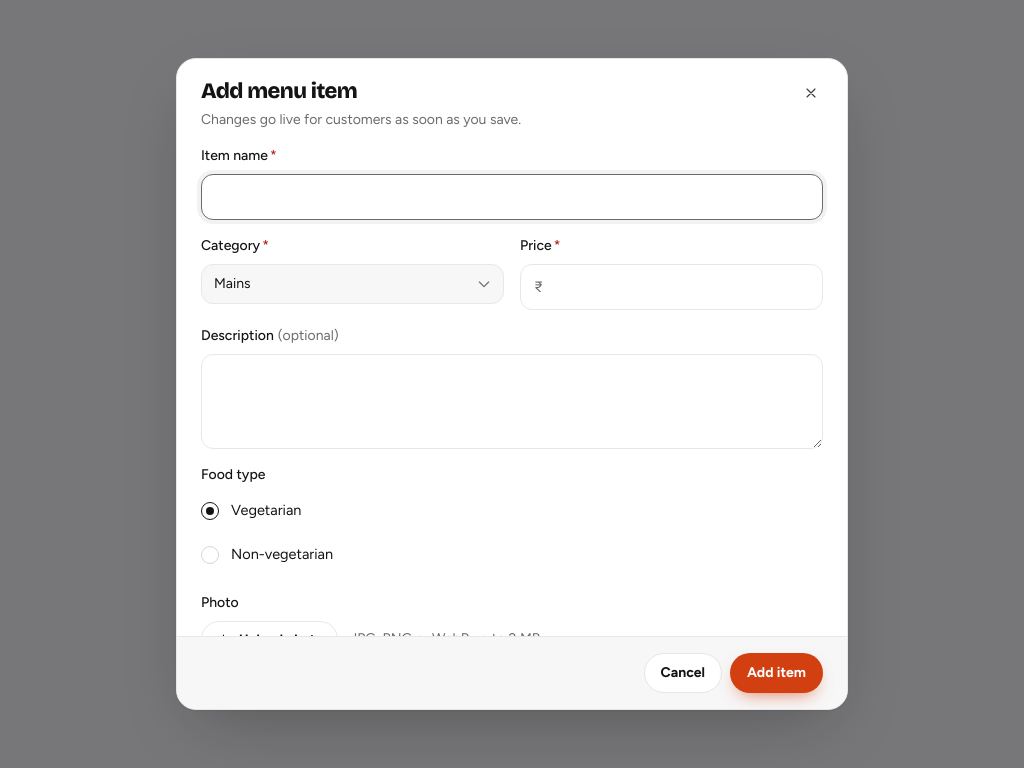
Test: ItemEditor customization validation › requires stock to be a whole number when stock tracking is on
The width and height of the screenshot is (1024, 768).
Type "Raita" into the field labelled "Item name*" at (512, 197), box [201,174,823,220]
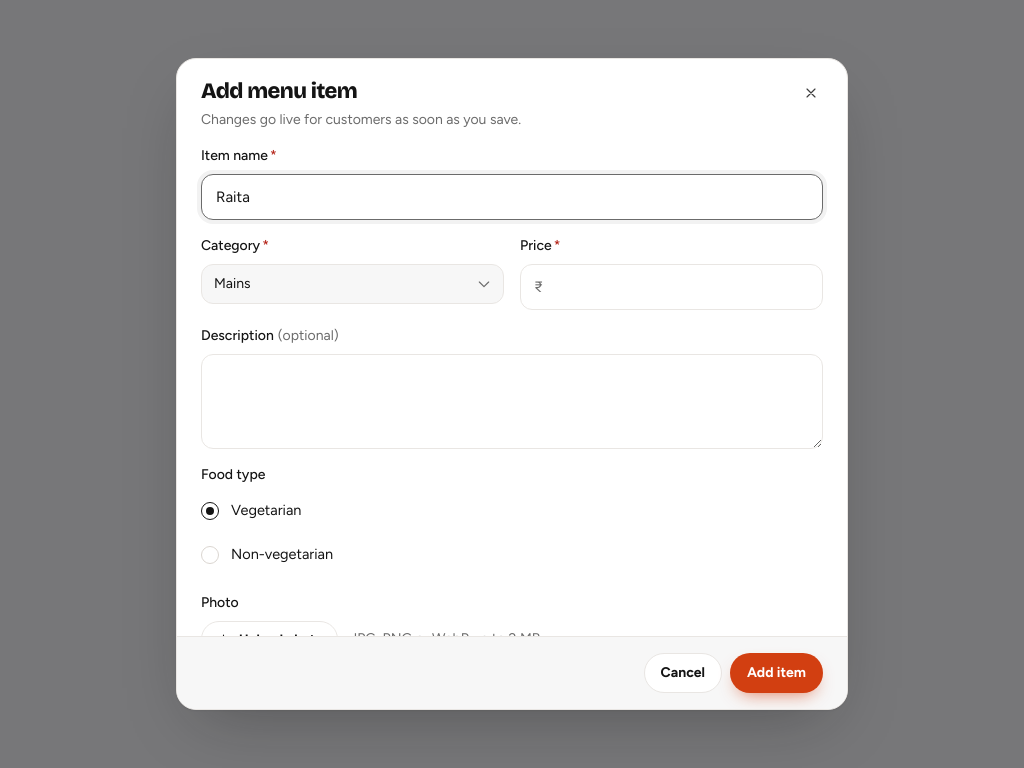
Type "60" into the field labelled "Price*" at (672, 287), box [520,264,823,310]
(page scrolled)
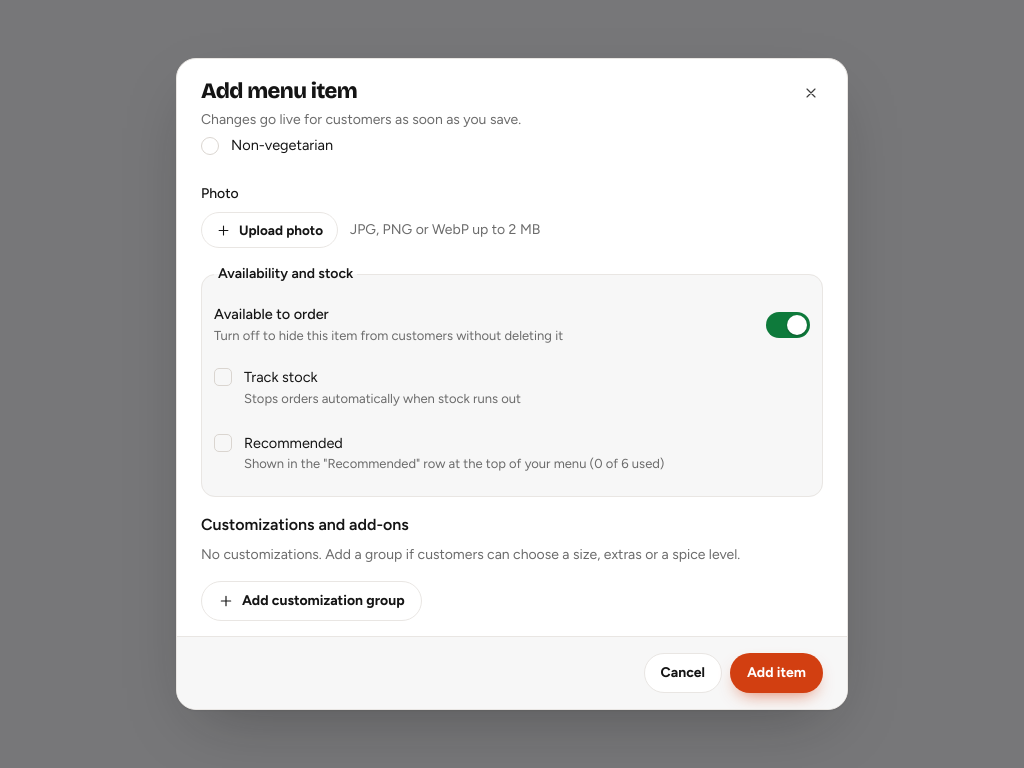
Click the checkbox labelled "Track stock Stops orders automatically when stock runs out" at (281, 377), box [214,368,521,406]
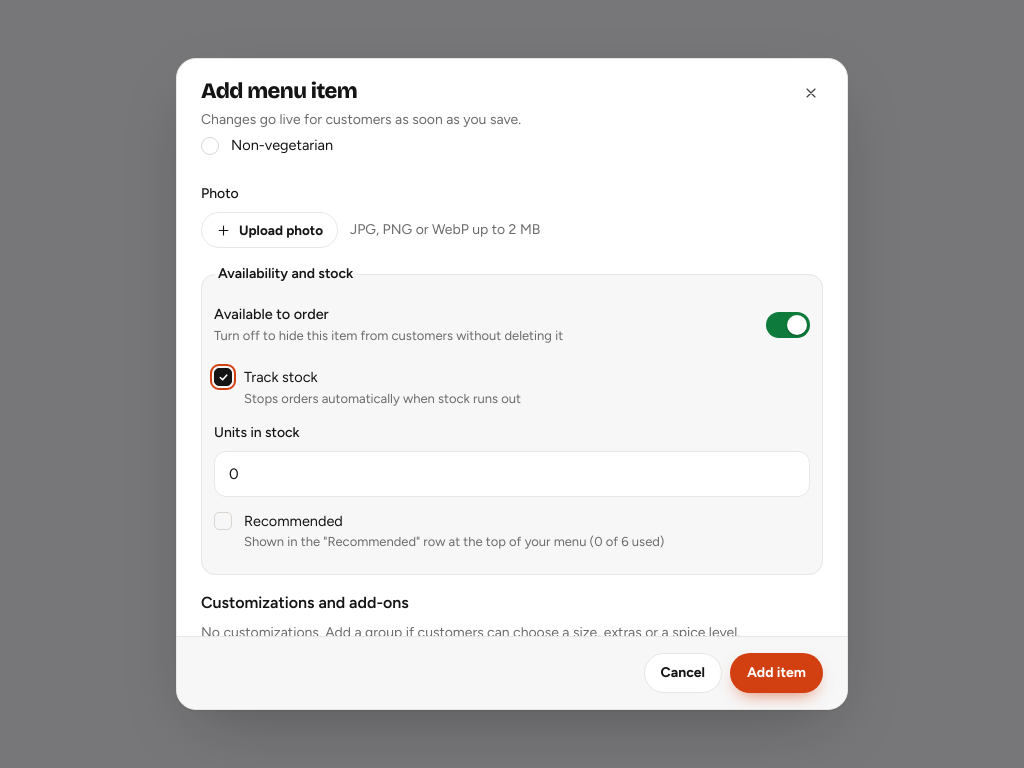
Replace the text in the number field labelled "Units in stock" with "abc" at (512, 474), box [214,450,810,496]
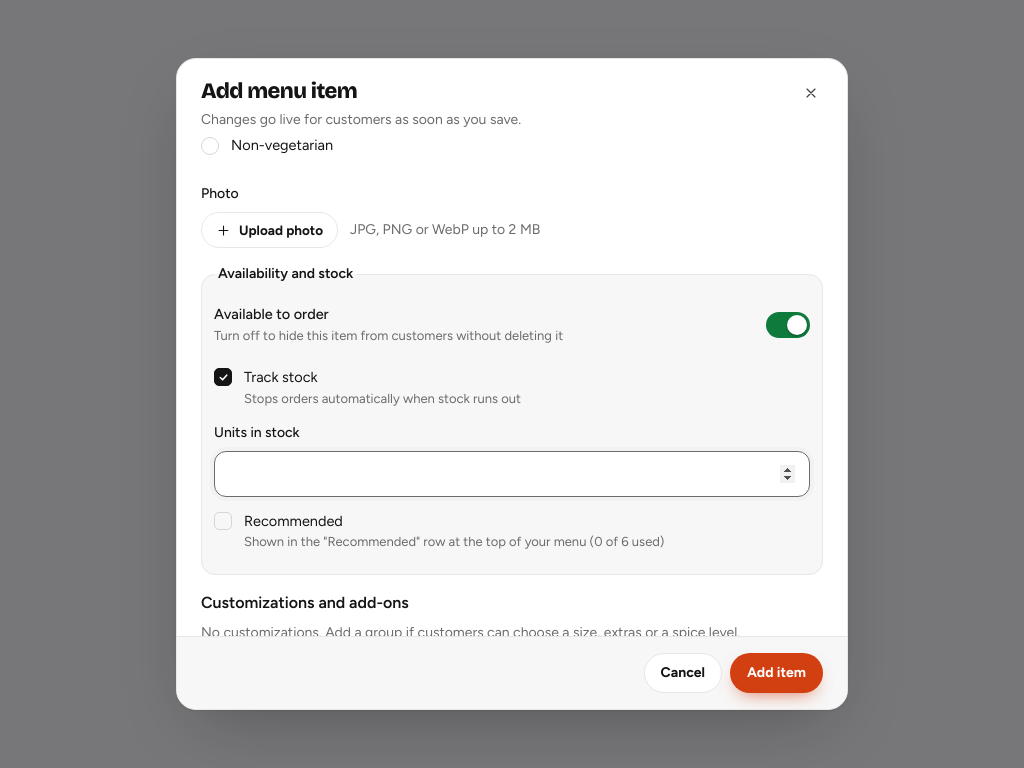
Click the button "Add item" at (776, 673), box [730,653,823,693]
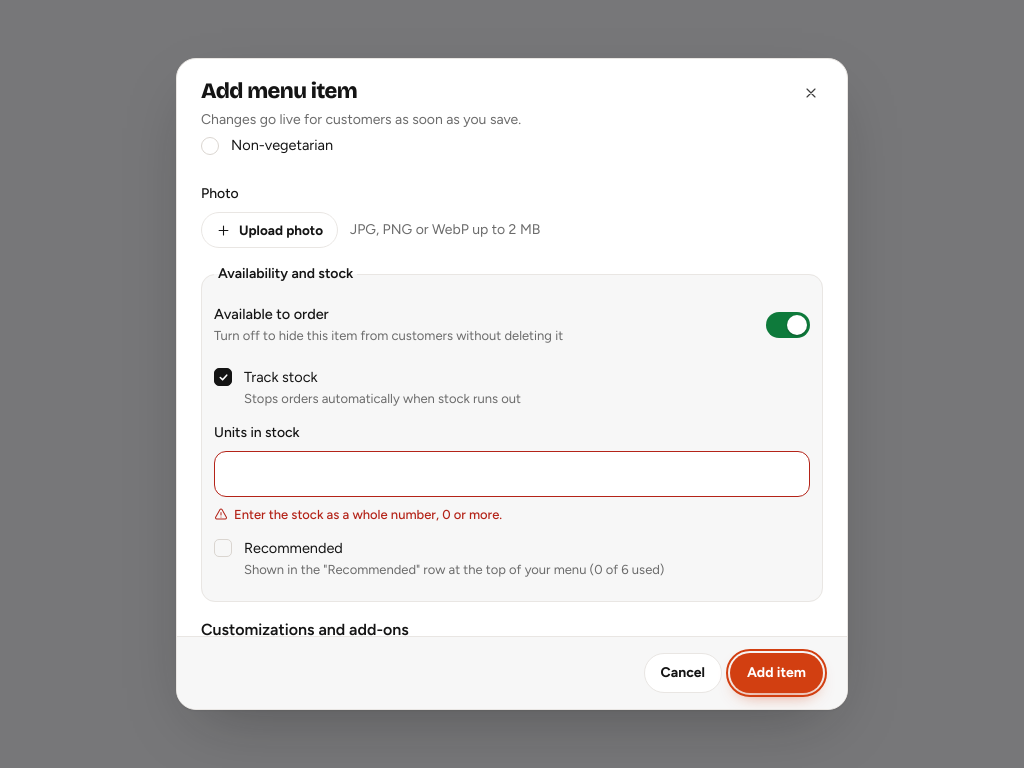
Expected: the text "Enter the stock as a whole number, 0 or more." is shown, [234,504,502,524]
